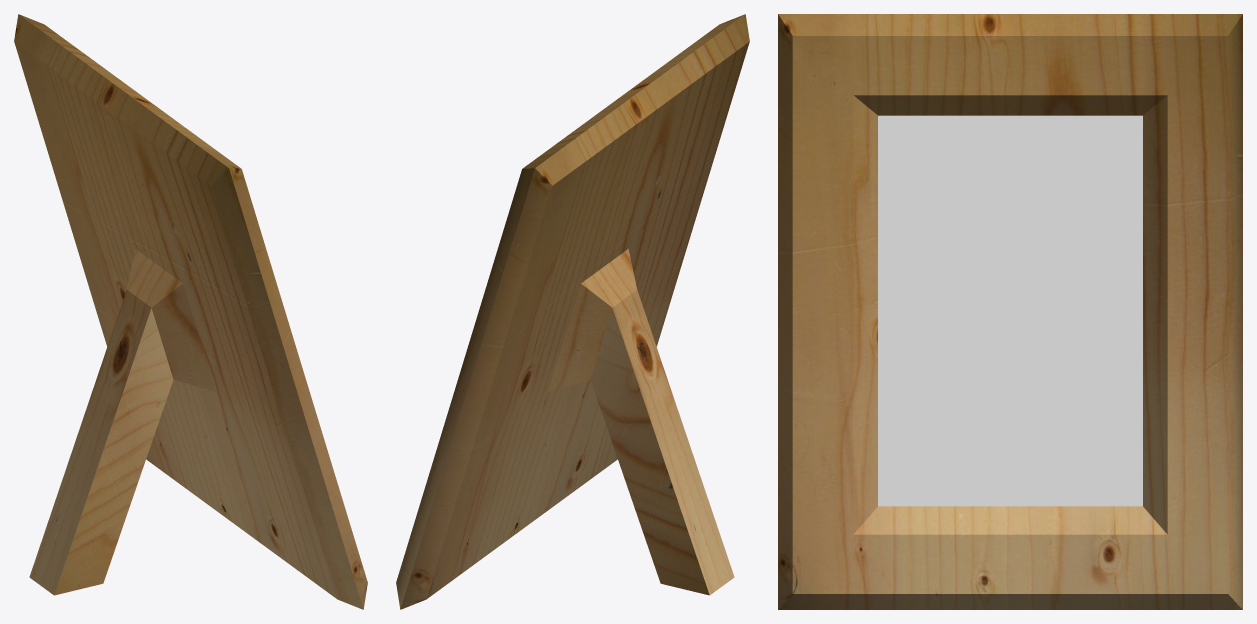
File: ramka.dae
3 renders of one model, left to right at view 1: azimuth 30°, elevation 25°; view 2: azimuth 150°, elevation 25°; view 3: azimuth 270°, elevation 25°, orthographic. The views are drawn at different scales.
Visible parts, largest first — view 1: ramka; view 2: ramka; view 3: ramka, photo.
Part boxes in pixels (x1,y1,x2,y2): ramka: (14,14,367,609); ramka: (396,14,749,609); ramka: (778,14,1242,609); photo: (878,115,1142,506).
Bounding box in the file's own units: 76.43 × 123 × 153.
2 materials, 1 textured.
